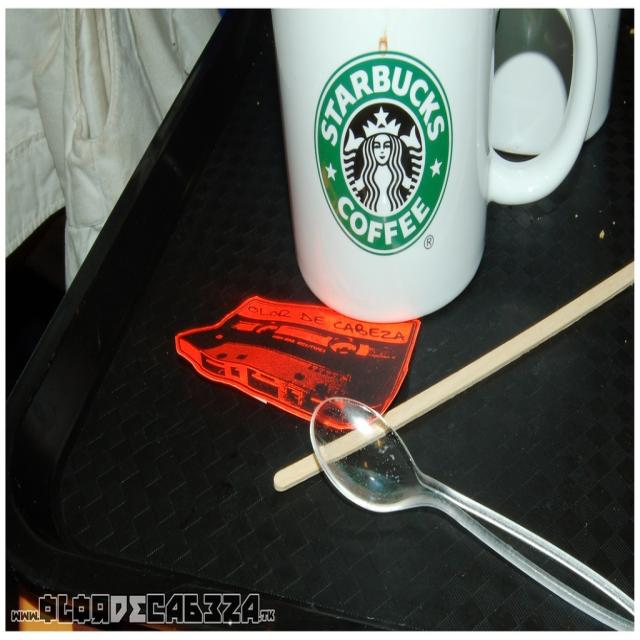starbucks: (316, 53, 454, 254)
